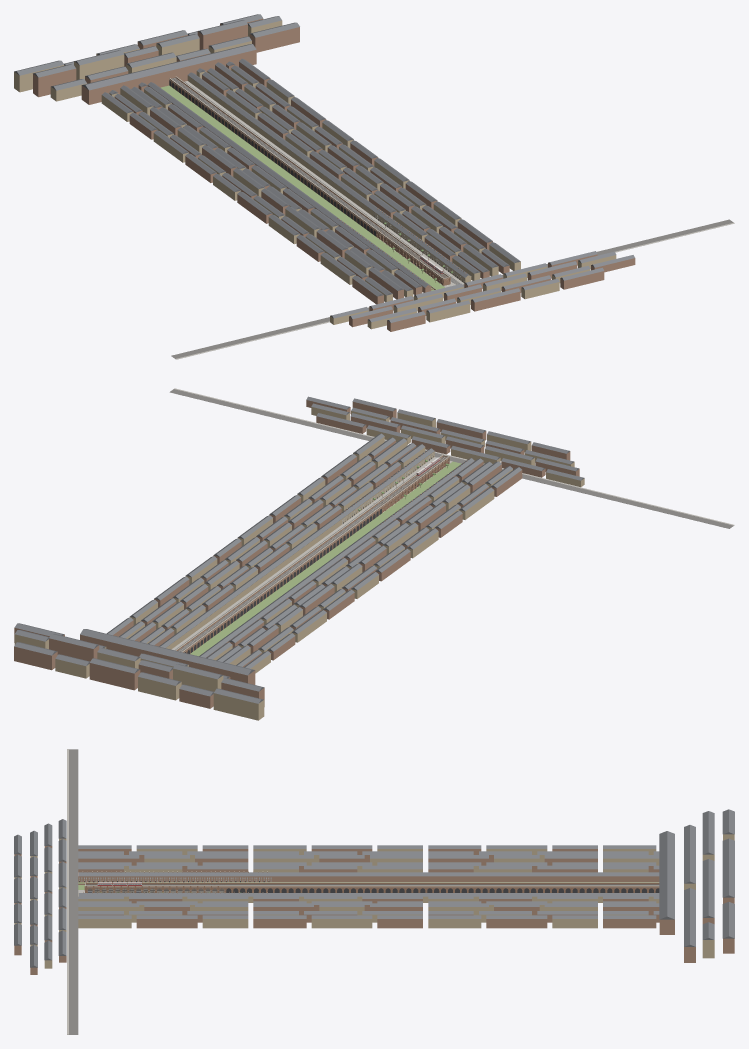
File: clay-brick-arch-viaduct-clay-v003.glb
3 views of the same model, one above another, from view 1: azimuth 30°, elevation 25°; view 2: azimuth 150°, elevation 25°; view 3: azimuth 270°, elevation 25° (orthographic). The views are drawn at different scales.
Parts seen in each view (by area): view 1: CLAY_ROOF, CLAY_TERRACE2, CLAY_TERRACE, CLAY_GRASS, CLAY_WALL, CLAY_SETTS, CLAY_PAVING, CLAY_STONE, CLAY_BALLAST, CLAY_DARK; view 2: CLAY_ROOF, CLAY_TERRACE2, CLAY_TERRACE, CLAY_SETTS, CLAY_GRASS, CLAY_WALL, CLAY_PAVING, CLAY_STONE, CLAY_BALLAST, CLAY_DARK; view 3: CLAY_ROOF, CLAY_TERRACE2, CLAY_TERRACE, CLAY_WALL, CLAY_SETTS, CLAY_STONE, CLAY_DARK, CLAY_BALLAST, CLAY_ARCH, CLAY_PAVING, CLAY_GRASS, CLAY_GLASS (+2 smaller).
Boxes of the visible parts, x1,y1,x2,y2 form: CLAY_ROOF: (14, 14, 634, 322); CLAY_TERRACE2: (33, 18, 635, 331); CLAY_TERRACE: (14, 20, 616, 329); CLAY_GRASS: (161, 85, 444, 290); CLAY_WALL: (169, 77, 450, 285); CLAY_SETTS: (171, 82, 733, 358); CLAY_PAVING: (175, 81, 734, 359); CLAY_STONE: (169, 76, 461, 289); CLAY_BALLAST: (171, 78, 447, 278); CLAY_DARK: (169, 80, 464, 284); CLAY_ROOF: (14, 396, 584, 703); CLAY_TERRACE2: (14, 400, 579, 708); CLAY_TERRACE: (14, 407, 584, 720); CLAY_SETTS: (169, 389, 733, 650); CLAY_GRASS: (190, 461, 461, 656); CLAY_WALL: (176, 455, 449, 653); CLAY_PAVING: (171, 388, 734, 649); CLAY_STONE: (175, 450, 469, 652); CLAY_BALLAST: (178, 456, 447, 651); CLAY_DARK: (185, 456, 444, 653); CLAY_ROOF: (14, 809, 734, 967); CLAY_TERRACE2: (14, 846, 734, 974); CLAY_TERRACE: (14, 834, 734, 968); CLAY_WALL: (84, 882, 659, 892); CLAY_SETTS: (69, 749, 78, 1034); CLAY_STONE: (82, 871, 658, 892); CLAY_DARK: (79, 880, 659, 892); CLAY_BALLAST: (85, 884, 659, 885); CLAY_ARCH: (87, 888, 658, 890); CLAY_PAVING: (67, 749, 84, 1034); CLAY_GRASS: (78, 882, 658, 889); CLAY_GLASS: (79, 878, 271, 892).
Size of what is drawn, in the model's own units: 800 by 33 by 853.
